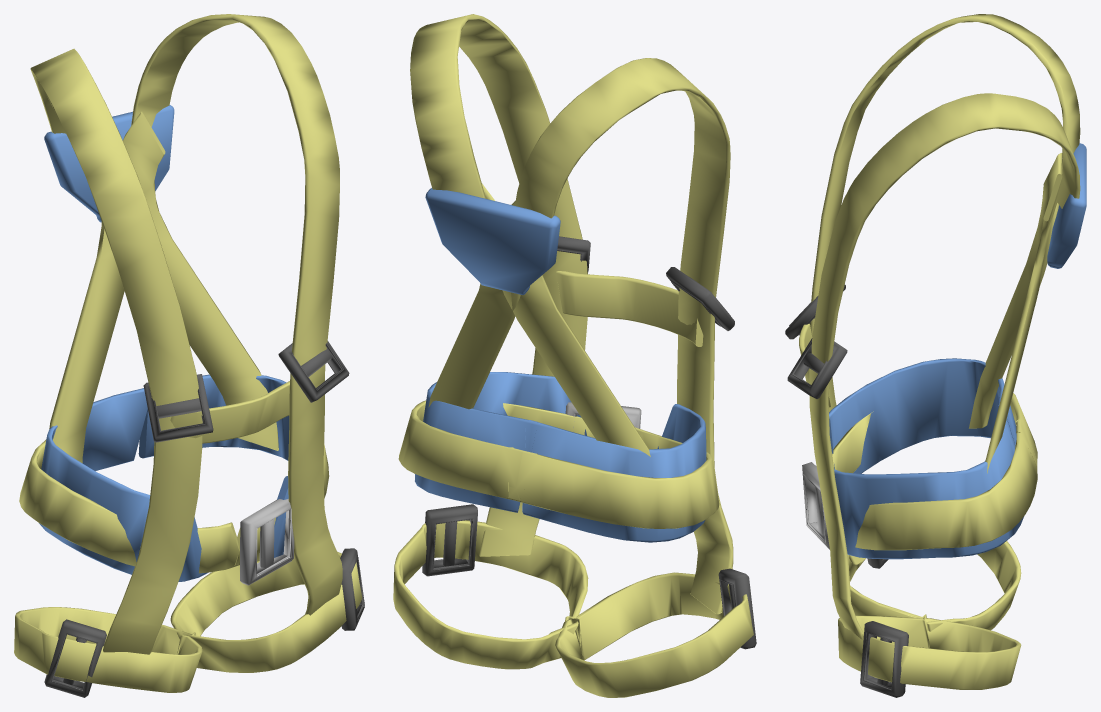
The model's file is arnes_de_seguridad.fbx.
3 renders of one model, left to right at view 1: azimuth 30°, elevation 25°; view 2: azimuth 150°, elevation 25°; view 3: azimuth 270°, elevation 25°, orthographic. The views are drawn at different scales.
Parts seen in each view (by area): view 1: Sweep, Sweep_2, Sweep_4, Sweep_1_2, Sweep_1, Cube, Sweep_3, Cube_3, Cube_2, Cube_4, Cube_1, Cube_5; view 2: Sweep, Sweep_2, Sweep_1, Sweep_1_2, Sweep_4, Cube, Sweep_3, Cube_5, Cube_4, Cube_2, Cube_1; view 3: Sweep, Sweep_1_2, Sweep_2, Sweep_1, Sweep_4, Cube, Cube_5, Cube_1, Cube_3, Cube_2.
Part boxes in pixels (<box>): Sweep: <box>30,14,342,654</box>; Sweep_2: <box>14,551,362,692</box>; Sweep_4: <box>49,112,278,463</box>; Sweep_1_2: <box>39,374,289,581</box>; Sweep_1: <box>19,439,329,573</box>; Cube: <box>44,105,174,222</box>; Sweep_3: <box>170,381,289,443</box>; Cube_3: <box>240,499,294,585</box>; Cube_2: <box>143,374,213,442</box>; Cube_4: <box>44,619,106,697</box>; Cube_1: <box>278,341,349,402</box>; Cube_5: <box>340,548,364,630</box>; Sweep: <box>410,14,733,614</box>; Sweep_2: <box>393,520,753,697</box>; Sweep_1: <box>398,400,719,528</box>; Sweep_1_2: <box>415,372,706,542</box>; Sweep_4: <box>428,184,650,456</box>; Cube: <box>425,188,560,294</box>; Sweep_3: <box>556,271,696,344</box>; Cube_5: <box>422,504,477,576</box>; Cube_4: <box>718,568,756,649</box>; Cube_2: <box>666,267,734,330</box>; Cube_1: <box>557,236,590,273</box>; Sweep: <box>809,14,1080,639</box>; Sweep_1_2: <box>829,358,1024,559</box>; Sweep_2: <box>838,541,1021,689</box>; Sweep_1: <box>832,393,1037,550</box>; Sweep_4: <box>969,153,1062,473</box>; Cube: <box>1047,143,1086,268</box>; Cube_5: <box>860,621,908,697</box>; Cube_1: <box>787,338,847,398</box>; Cube_3: <box>802,462,829,549</box>; Cube_2: <box>785,284,845,339</box>.
Size of the model in its own units: 41.08 by 75.25 by 34.31.
